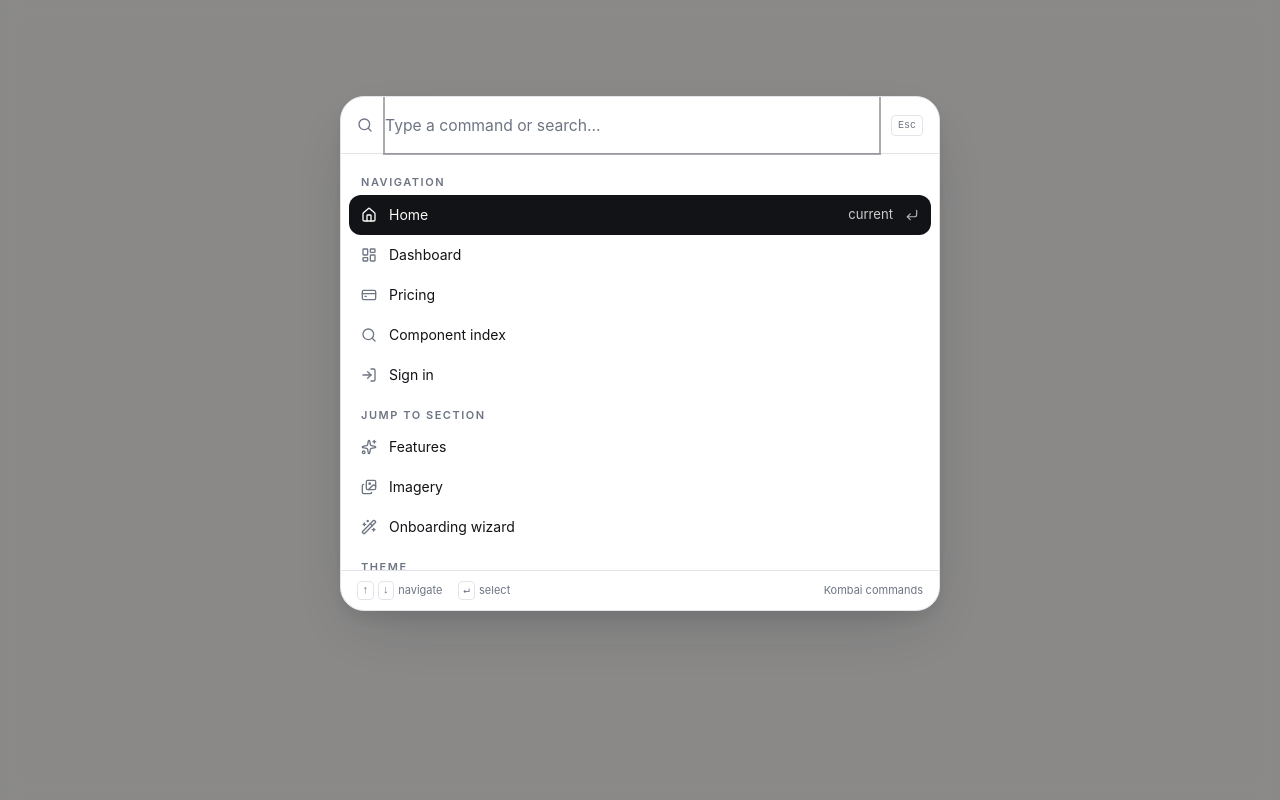
Test: CommandPalette › filters the list by the query
Type "dark" into the dropdown at (632, 125), box [385,97,879,153]
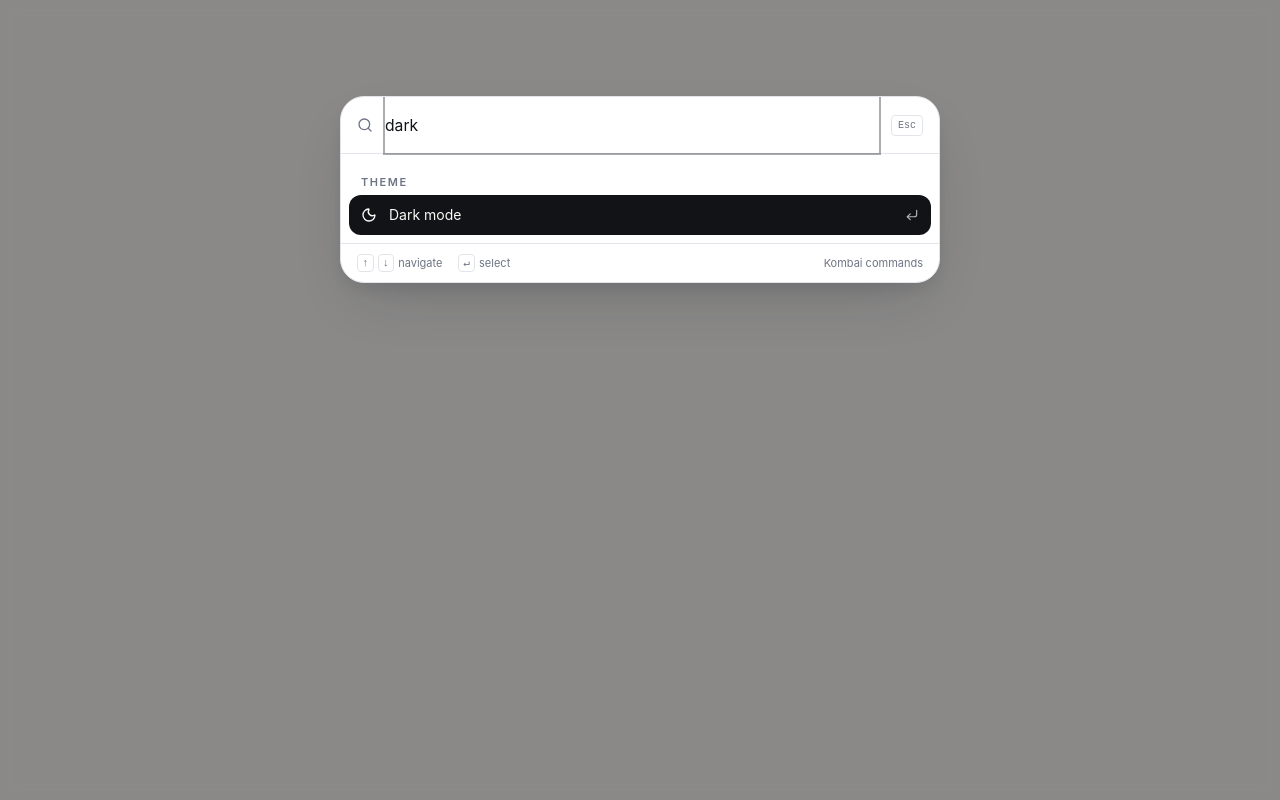
Check: the option "Dark mode" is shown, box [349,194,931,234]
Check: the option "Dashboard" is gone
